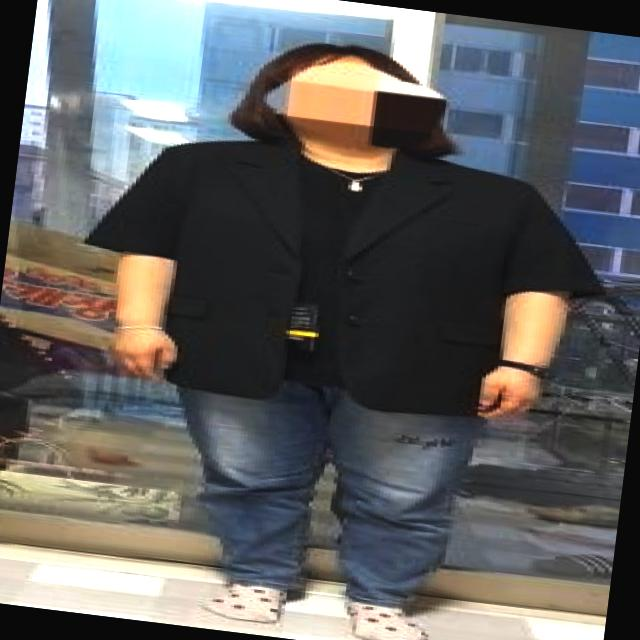blazer: (72, 112, 612, 435)
denimpants: (132, 292, 496, 618)
